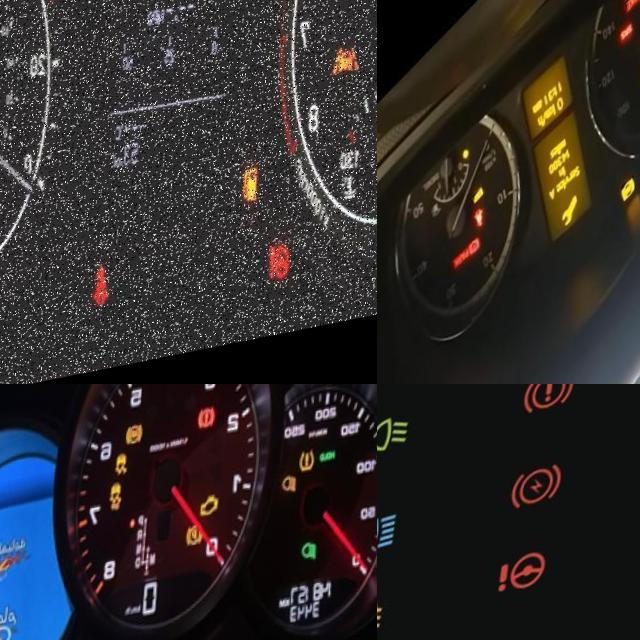Electronic Power Steering: (502, 564, 559, 612), (252, 252, 292, 309)
